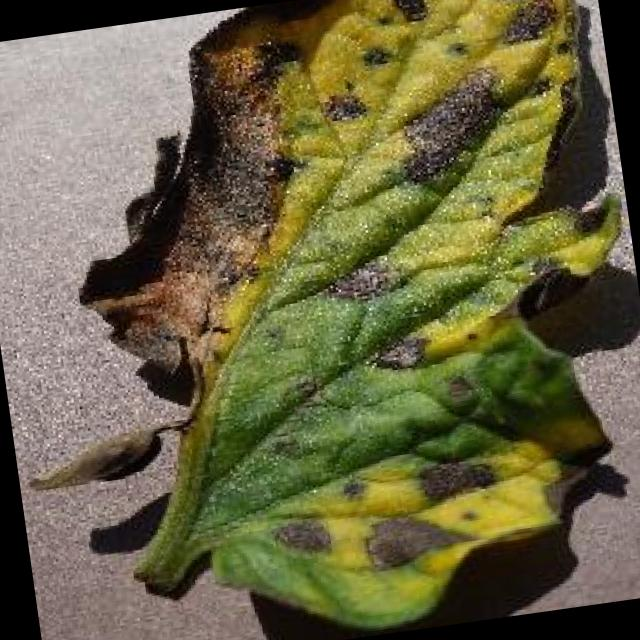Tomato_Early_Blight: (37, 0, 640, 627)
